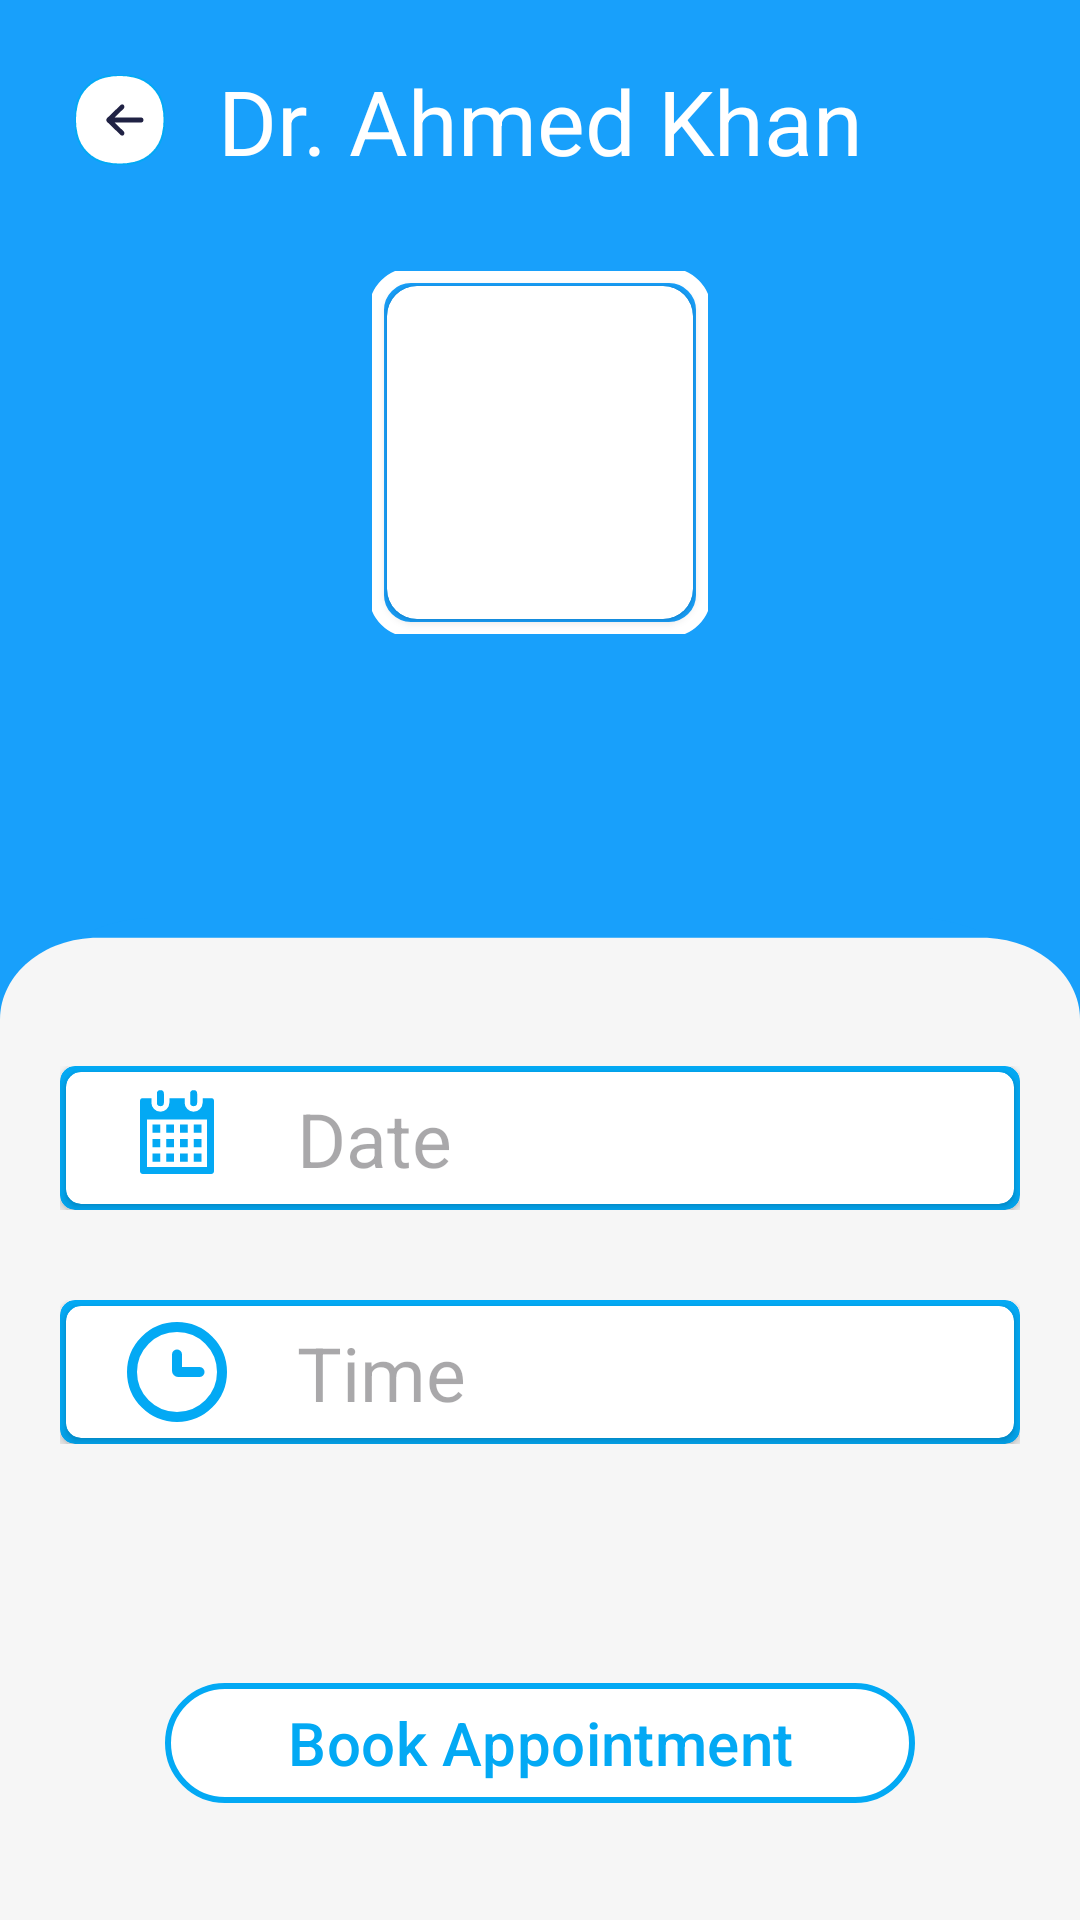

Named icons in this screenshot (1080w x 1920h) and their centers, point (x, y):
back: point (120, 120)
